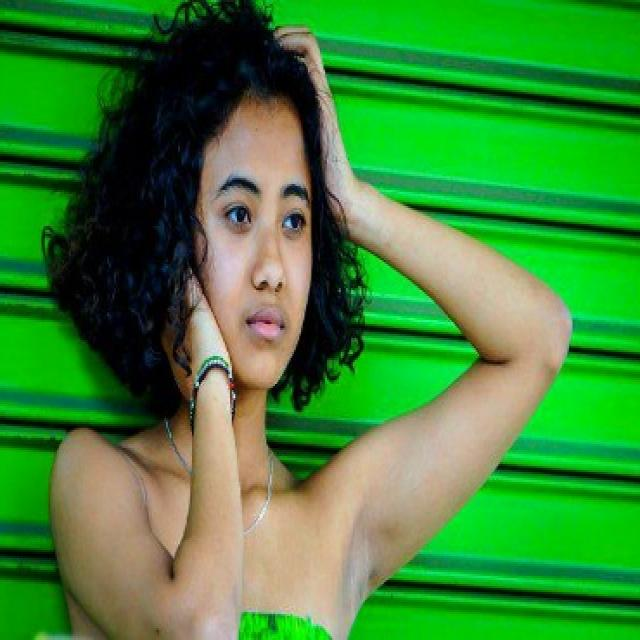adult: (44, 0, 569, 638)
